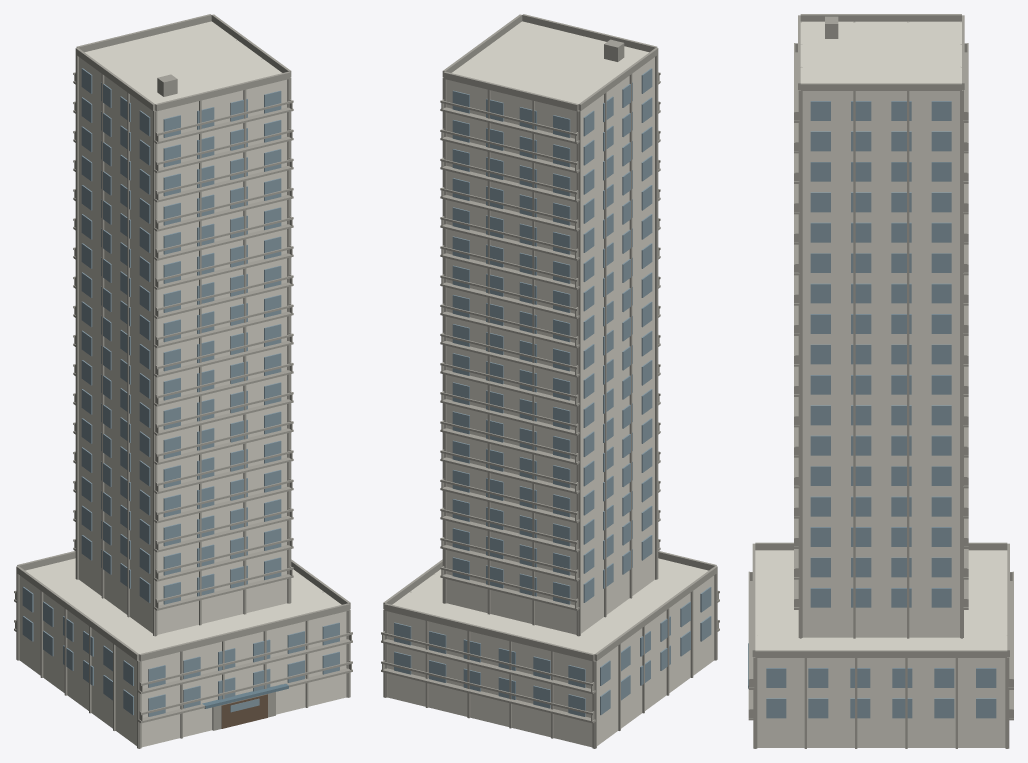
Rendered from residential_3x3_tower.glb.
The picture shows the model from 3 angles, left to right: view 1: azimuth 30°, elevation 25°; view 2: azimuth 150°, elevation 25°; view 3: azimuth 270°, elevation 25°; orthographic projection. The views are drawn at different scales.
Visible parts, largest first — view 1: residential_3x3_tower_0; view 2: residential_3x3_tower_0; view 3: residential_3x3_tower_0.
Part boxes in pixels (bbox=[...]): residential_3x3_tower_0: bbox=[14, 14, 352, 748]; residential_3x3_tower_0: bbox=[381, 14, 719, 748]; residential_3x3_tower_0: bbox=[748, 14, 1013, 748].
Size of the model in its own units: 23 by 64.5 by 23.75.
